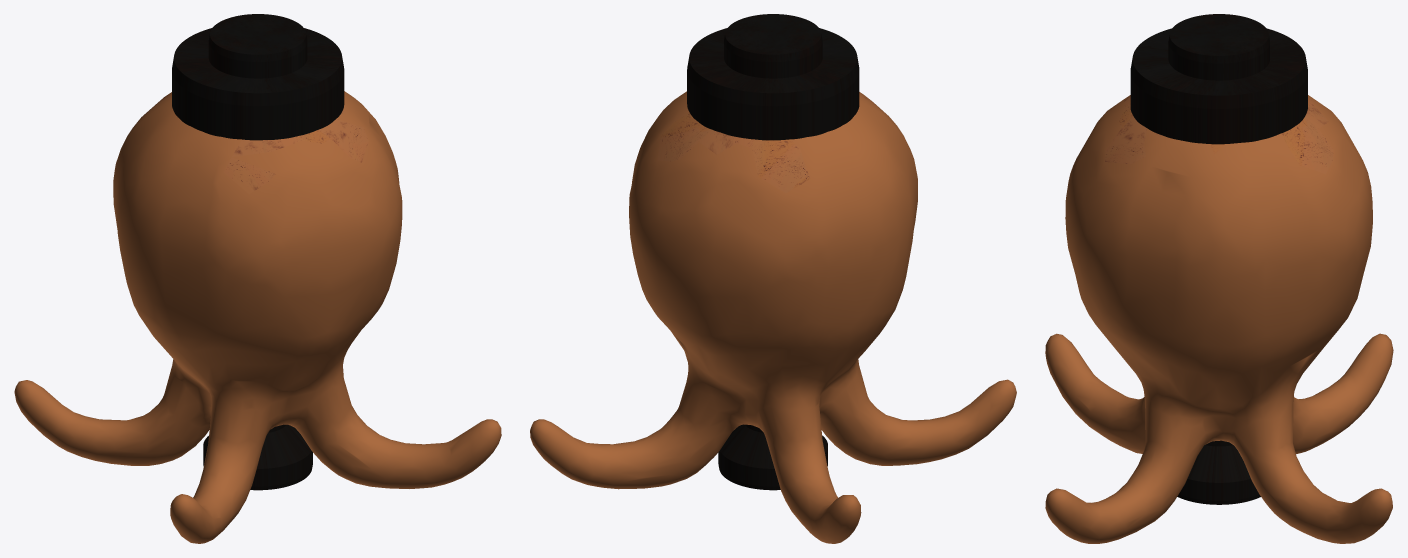
The model's file is iman.fbx.
The picture shows the model from 3 angles, left to right: view 1: azimuth 30°, elevation 25°; view 2: azimuth 150°, elevation 25°; view 3: azimuth 270°, elevation 25°; orthographic projection. The views are drawn at different scales.
Parts seen in each view (by area): view 1: anzuelo, iman; view 2: anzuelo, iman; view 3: anzuelo, iman.
Boxes of the visible parts, box(x1,y1,x2,y2) form: anzuelo: box(14, 91, 501, 543); iman: box(172, 14, 344, 490); anzuelo: box(530, 91, 1016, 543); iman: box(687, 14, 859, 490); anzuelo: box(1045, 95, 1393, 543); iman: box(1130, 14, 1307, 504).
Bounding box in the file's own units: 230 × 296 × 205.
Materials: 2 (2 with a texture image).
